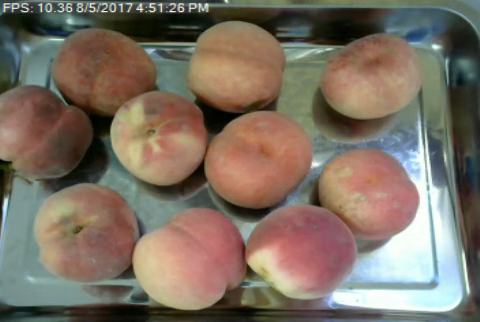Peach: (135, 207, 245, 310), (245, 203, 357, 300), (206, 110, 313, 209), (33, 183, 138, 283), (317, 31, 429, 121), (108, 89, 208, 185), (51, 27, 158, 115), (316, 149, 419, 240), (187, 21, 285, 111)
